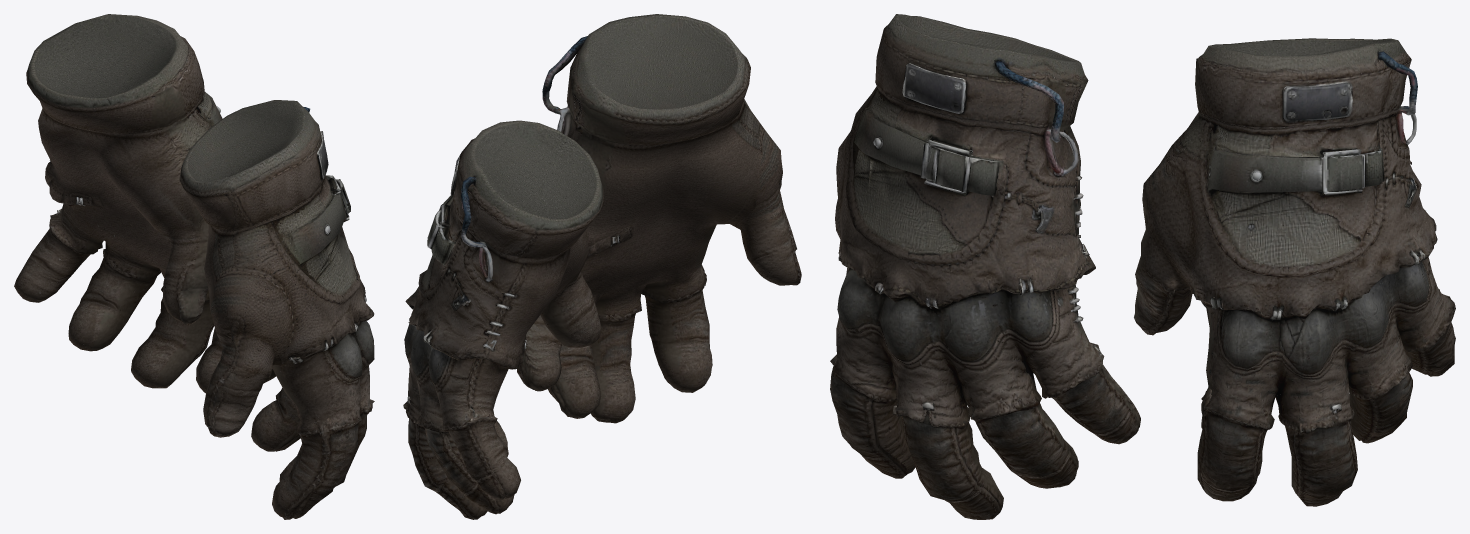
The model's file is tactical gloves 3d model.glb.
3 views of the same model, side by side, from view 1: azimuth 30°, elevation 25°; view 2: azimuth 150°, elevation 25°; view 3: azimuth 270°, elevation 25° (orthographic). The views are drawn at different scales.
Parts seen in each view (by area): view 1: world; view 2: world; view 3: world.
Boxes of the visible parts, x1,y1,x2,y2 form: world: (14,14,374,519); world: (403,14,801,519); world: (830,14,1455,519).
Size of the model in its own units: 0.4863 by 0.834 by 0.998.
Materials: 1 (1 with a texture image).
